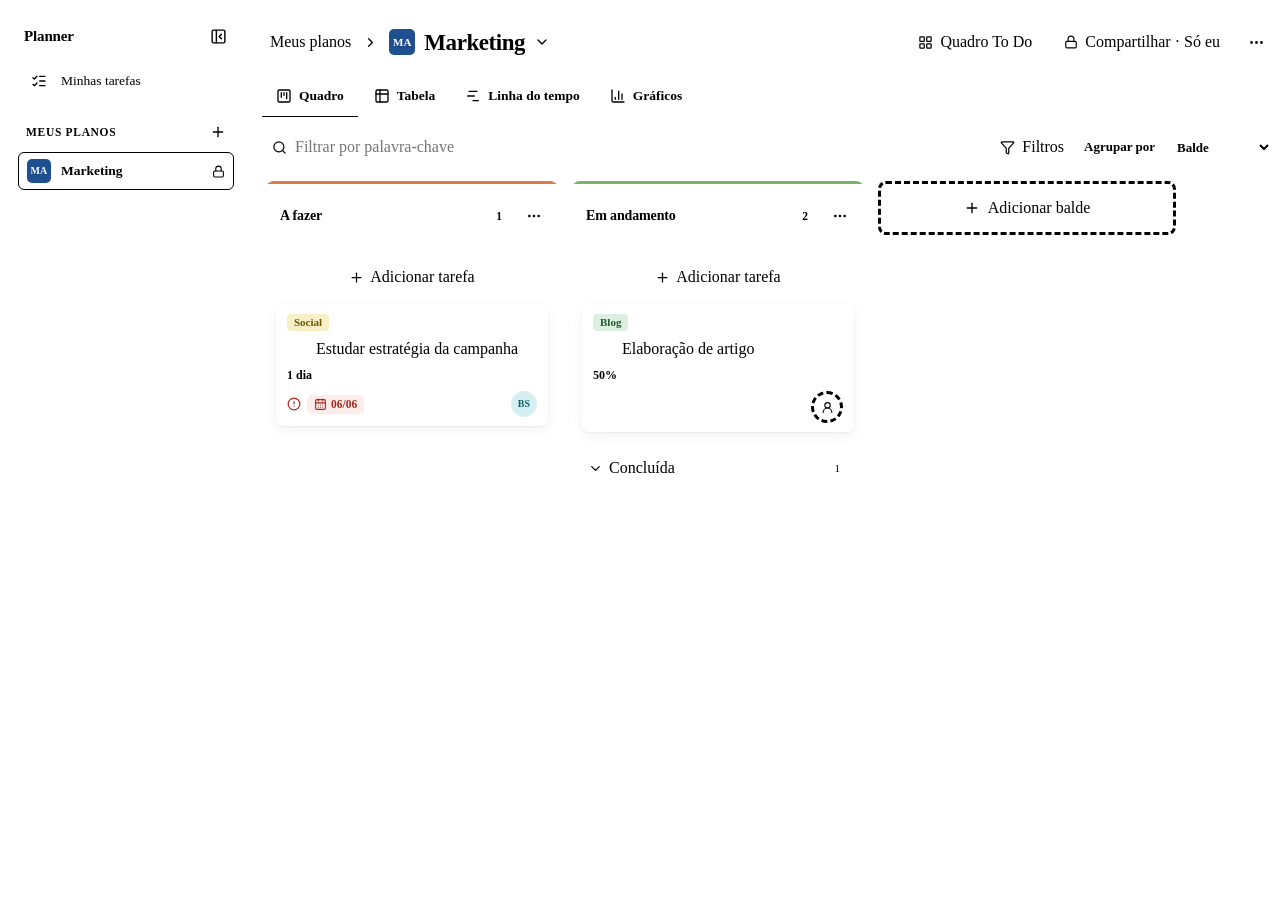
Scenario: Planner no formato Microsoft Planner › troca para Tabela, Linha do tempo e Gráficos sem perder as tarefas
Expected: the heading "Marketing" is shown, x1=424 y1=29 x2=525 y2=55
Expected: the button "Estudar estratégia da campanha" is shown, x1=316 y1=340 x2=537 y2=358
Click the tab "Tabela". click: (405, 97)
box: x1=360 y1=76 x2=449 y2=118
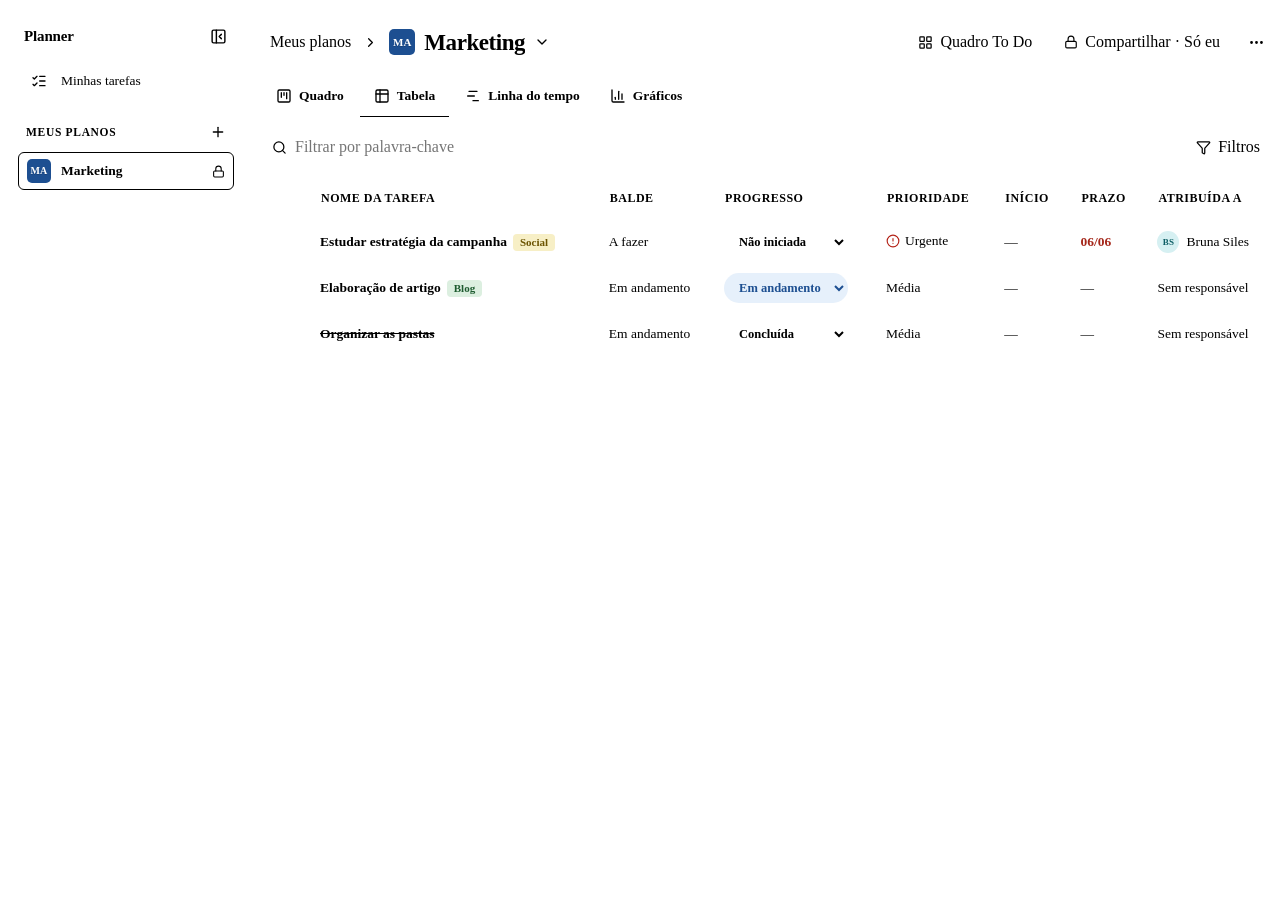
Expected: the column heading "Nome da tarefa" is shown, x1=308 y1=177 x2=597 y2=219
Expected: the cell "Estudar estratégia da campanha Social" is shown, x1=308 y1=219 x2=597 y2=265
Expected: the dropdown named "Progresso de Elaboração de artigo" shows "Em andamento", x1=724 y1=273 x2=848 y2=303
Click the tab "Linha do tempo". click: (523, 97)
box: x1=451 y1=76 x2=594 y2=118
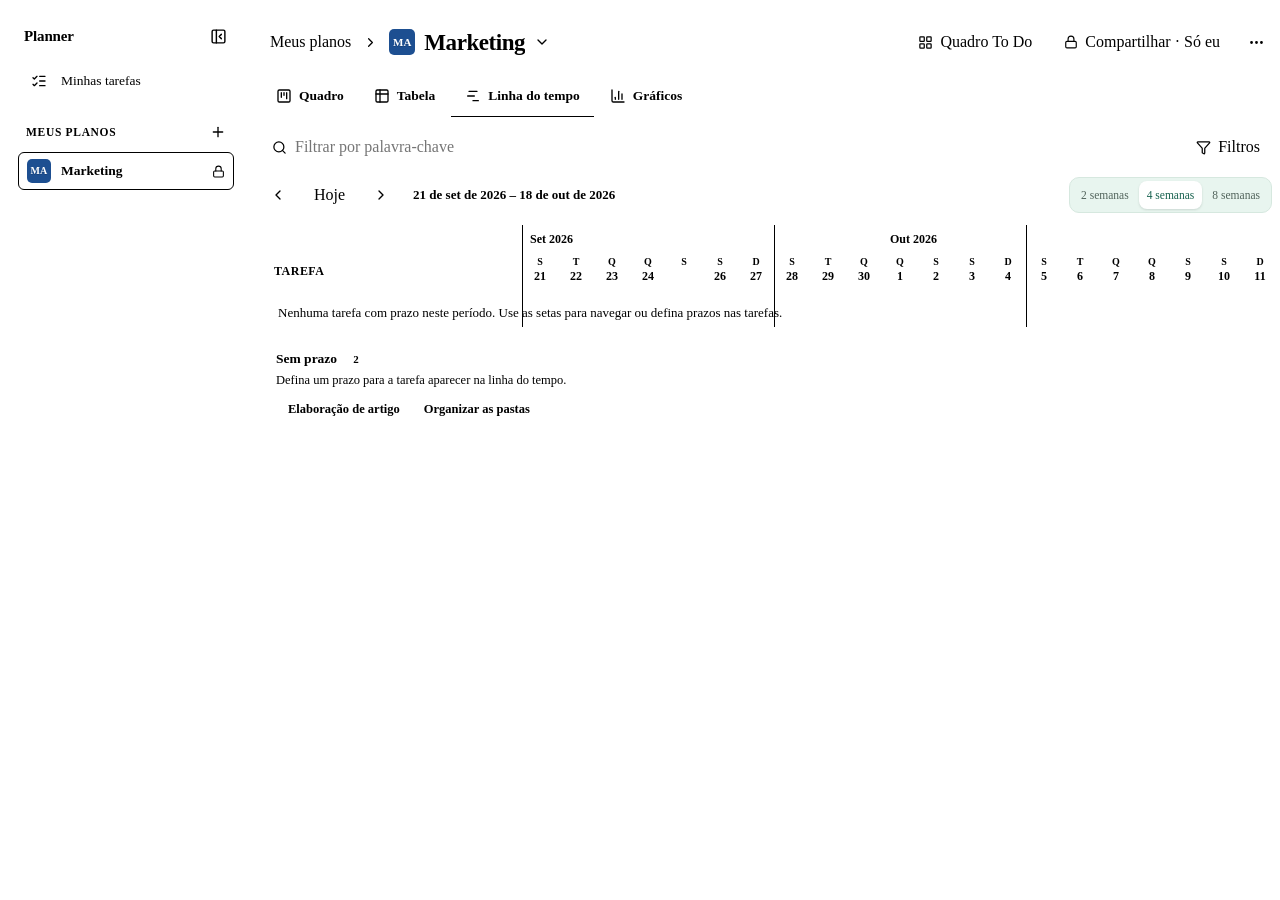
Expected: the button "Hoje" is shown, x1=302 y1=177 x2=357 y2=213
Expected: the text "Sem prazo 2" is shown, x1=276 y1=351 x2=359 y2=366
Click the tab "Gráficos". click: (646, 97)
box: x1=596 y1=76 x2=696 y2=118
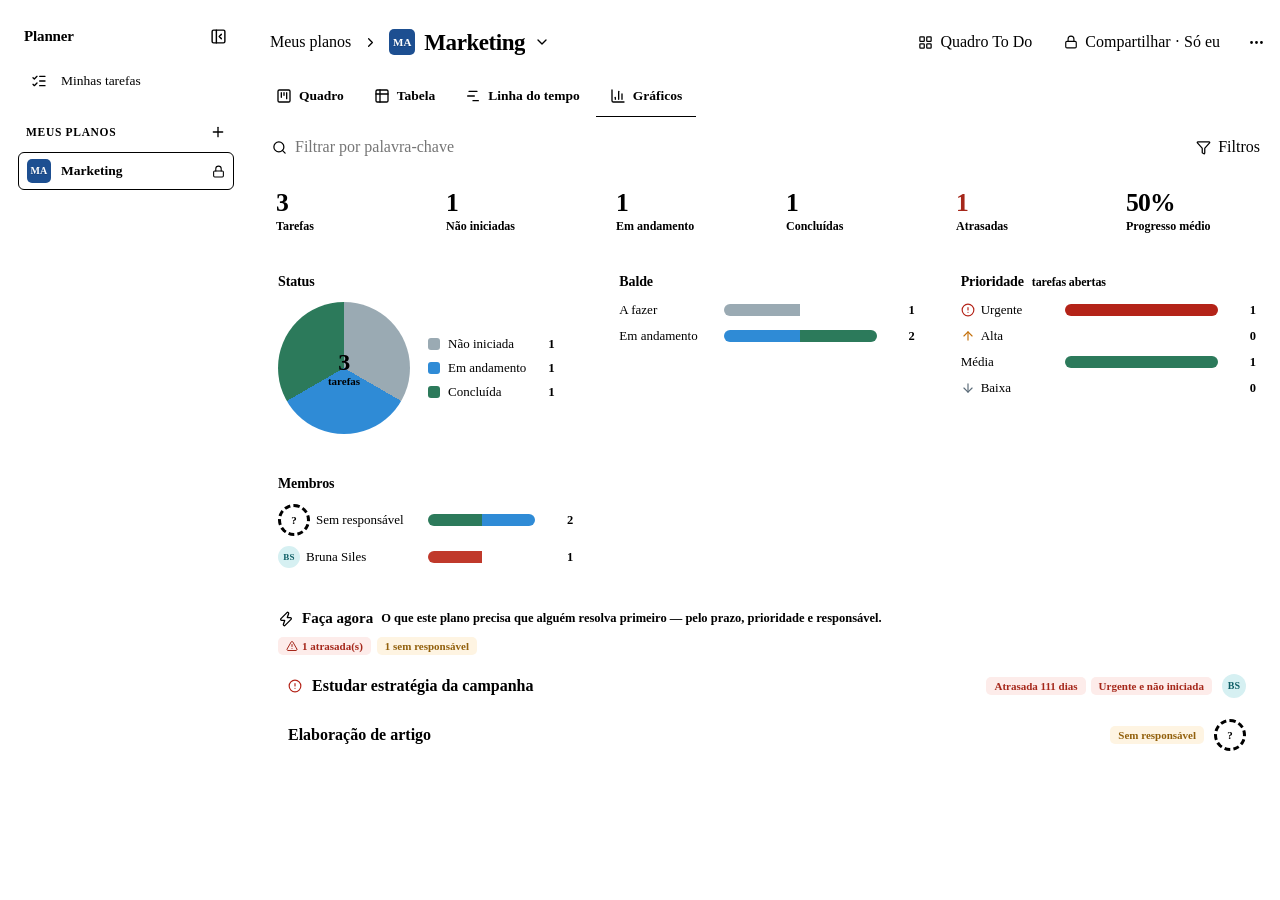
Expected: the heading "Faça agora" is shown, x1=302 y1=610 x2=373 y2=627
Expected: the element named "Tarefas por balde" is shown, x1=619 y1=274 x2=915 y2=343
